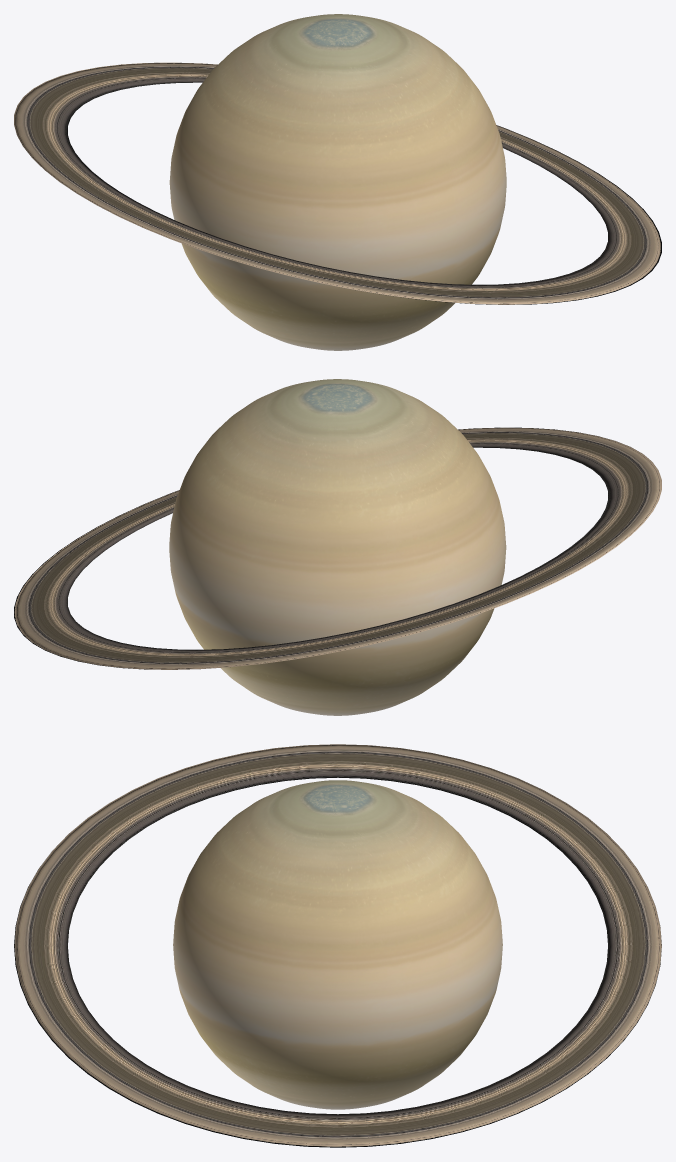
File: saturn.glb
The picture shows the model from 3 angles, top to bottom: view 1: azimuth 30°, elevation 25°; view 2: azimuth 150°, elevation 25°; view 3: azimuth 270°, elevation 25°; orthographic projection. The views are drawn at different scales.
Parts seen in each view (by area): view 1: Sphere, Circle; view 2: Sphere, Circle; view 3: Sphere, Circle.
Part boxes in pixels (x1=…): Sphere: x1=169, y1=14, x2=506, y2=350; Circle: x1=14, y1=62, x2=661, y2=304; Sphere: x1=169, y1=379, x2=506, y2=715; Circle: x1=14, y1=427, x2=661, y2=669; Sphere: x1=173, y1=780, x2=502, y2=1109; Circle: x1=14, y1=744, x2=661, y2=1147.
Size of the model in its own units: 3.82 by 2 by 3.93.
2 materials, 2 textured.
